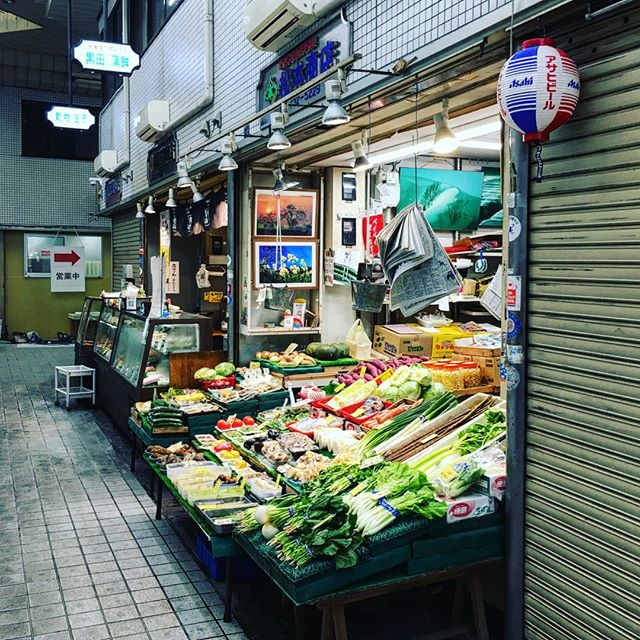food stand: (92, 129, 516, 640)
sign: (44, 239, 92, 300)
